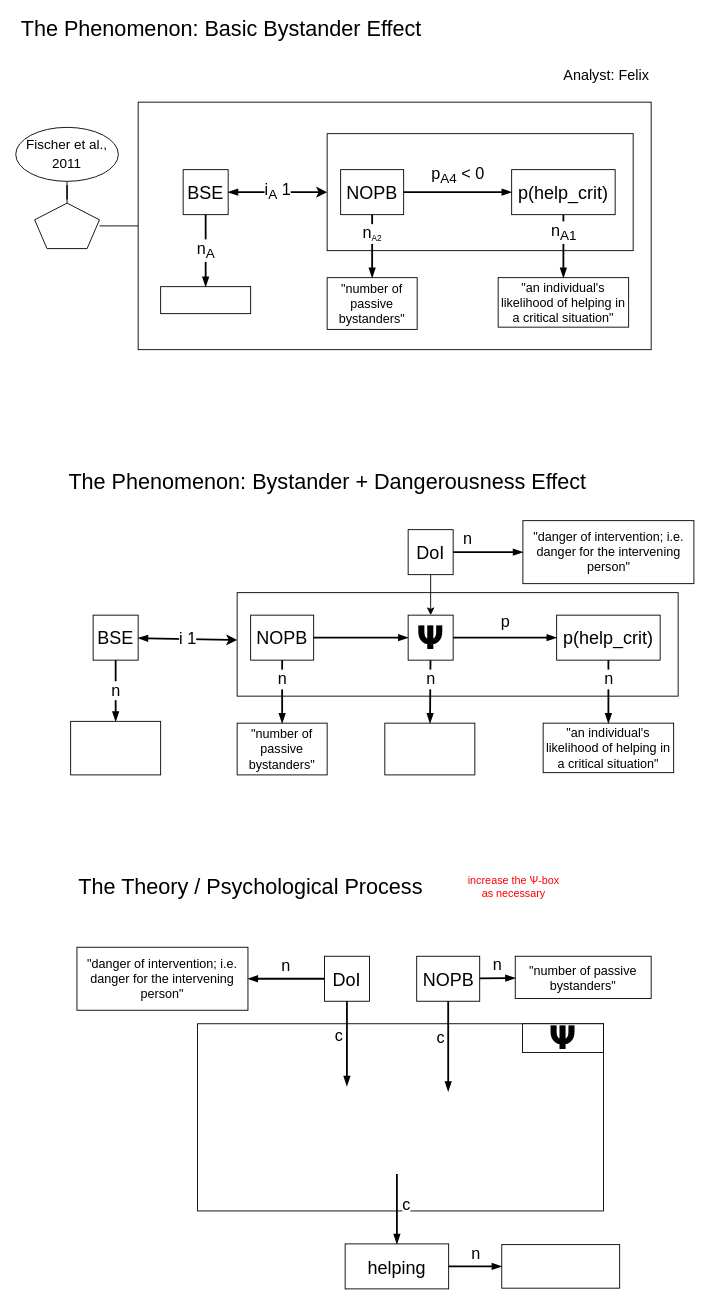
This 710x1305 diagram has some shape labels left out. Each missing label, with the box of its shape:
"bystander effect": (160, 286, 251, 314)
"classical bystander effect": (70, 720, 161, 775)
"observed helping behavior (yes/no)": (501, 1244, 620, 1288)
"psyche": (384, 722, 475, 775)
IS: (34, 202, 99, 249)
